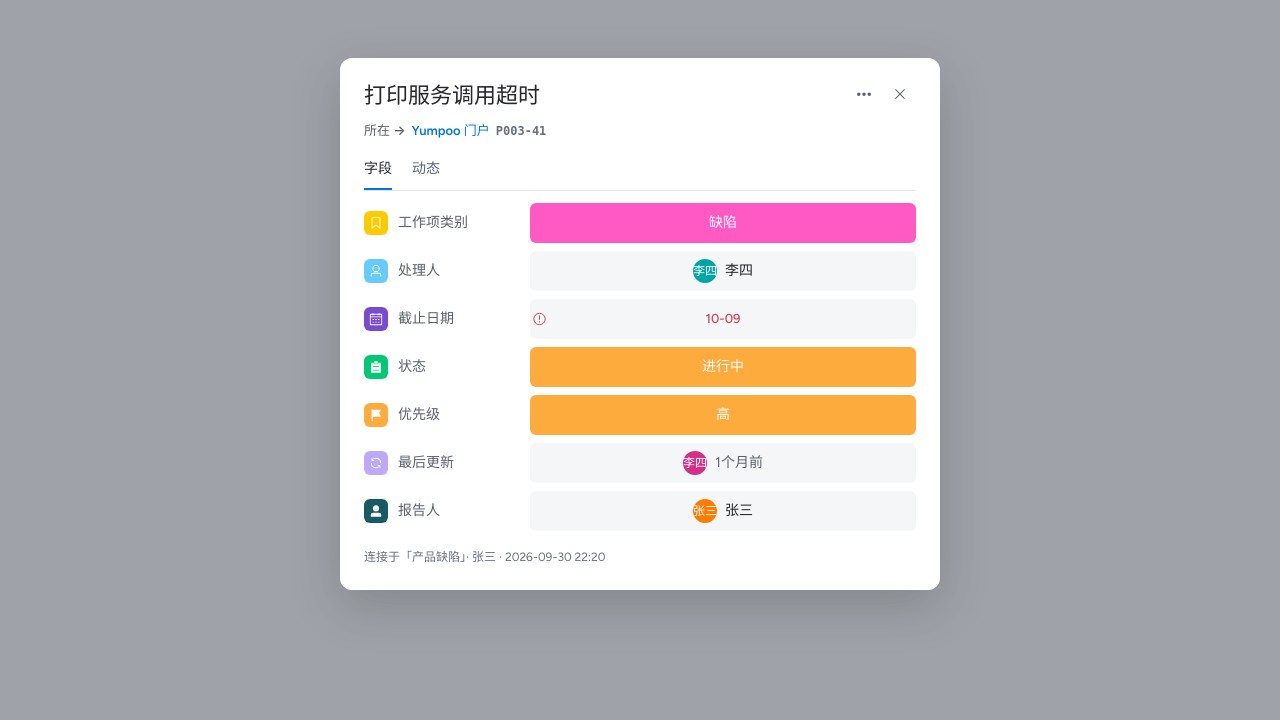
Scenario: 已连接工作项卡片 › 动态页签展示对端工作项的单元格动态，编辑后重新加载
Click the tab "动态" at (426, 170), box 412,150 -> 440,190
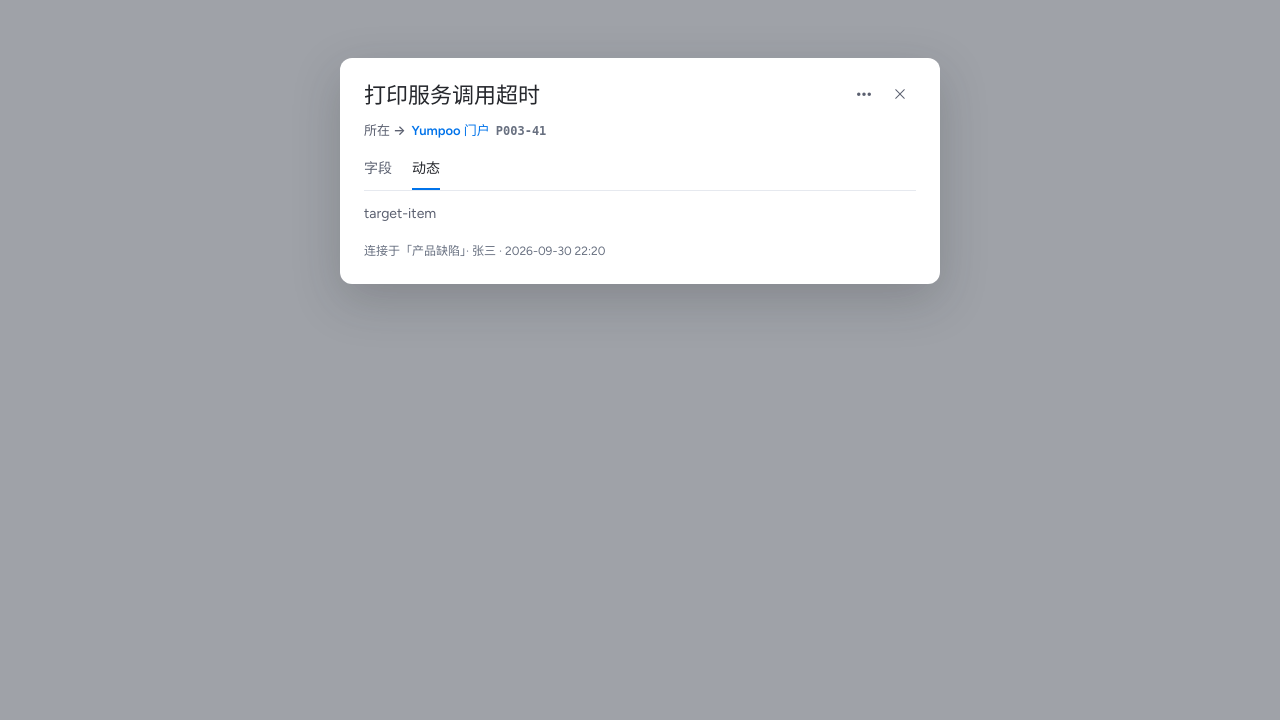
Check: the text with class "activity-stub" reads "target-item", box 364,205 -> 436,222
